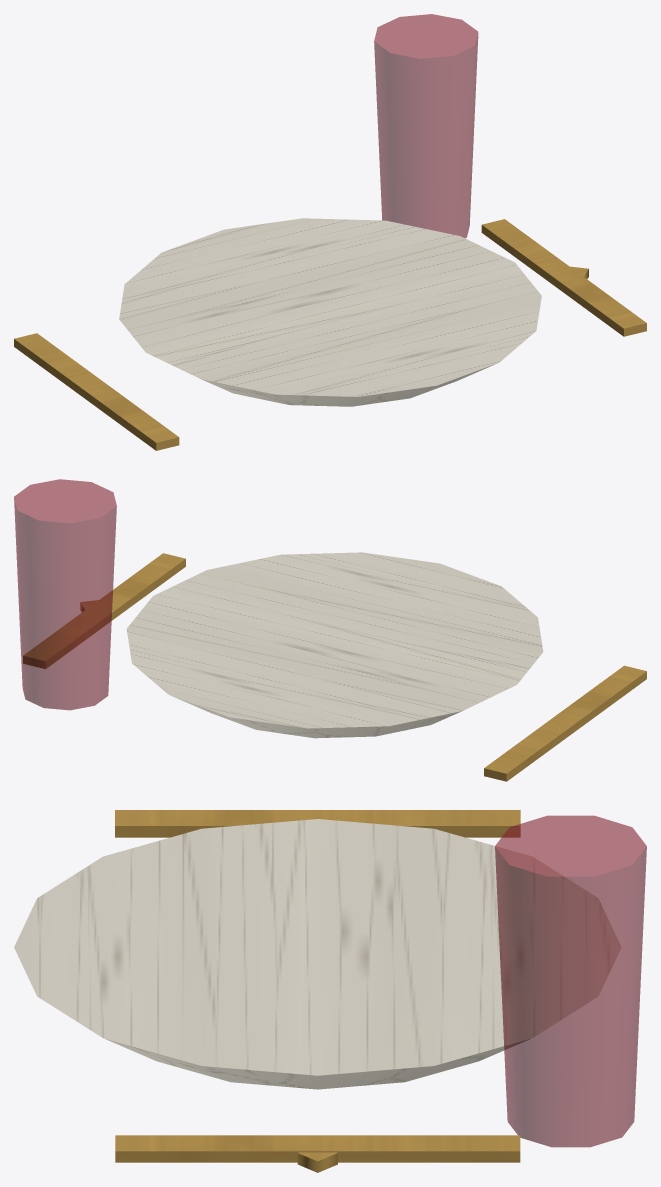
The model's file is plateSet.glb.
The picture shows the model from 3 angles, top to bottom: view 1: azimuth 30°, elevation 25°; view 2: azimuth 150°, elevation 25°; view 3: azimuth 270°, elevation 25°; orthographic projection. The views are drawn at different scales.
Visible parts, largest first — view 1: plateSet; view 2: plateSet; view 3: plateSet.
Part boxes in pixels (x1=…): plateSet: x1=14, y1=14, x2=646, y2=450; plateSet: x1=14, y1=479, x2=646, y2=781; plateSet: x1=14, y1=810, x2=646, y2=1172.
Bounding box in the file's own units: 0.3275 × 0.1202 × 0.2501.
3 materials, 2 textured.
